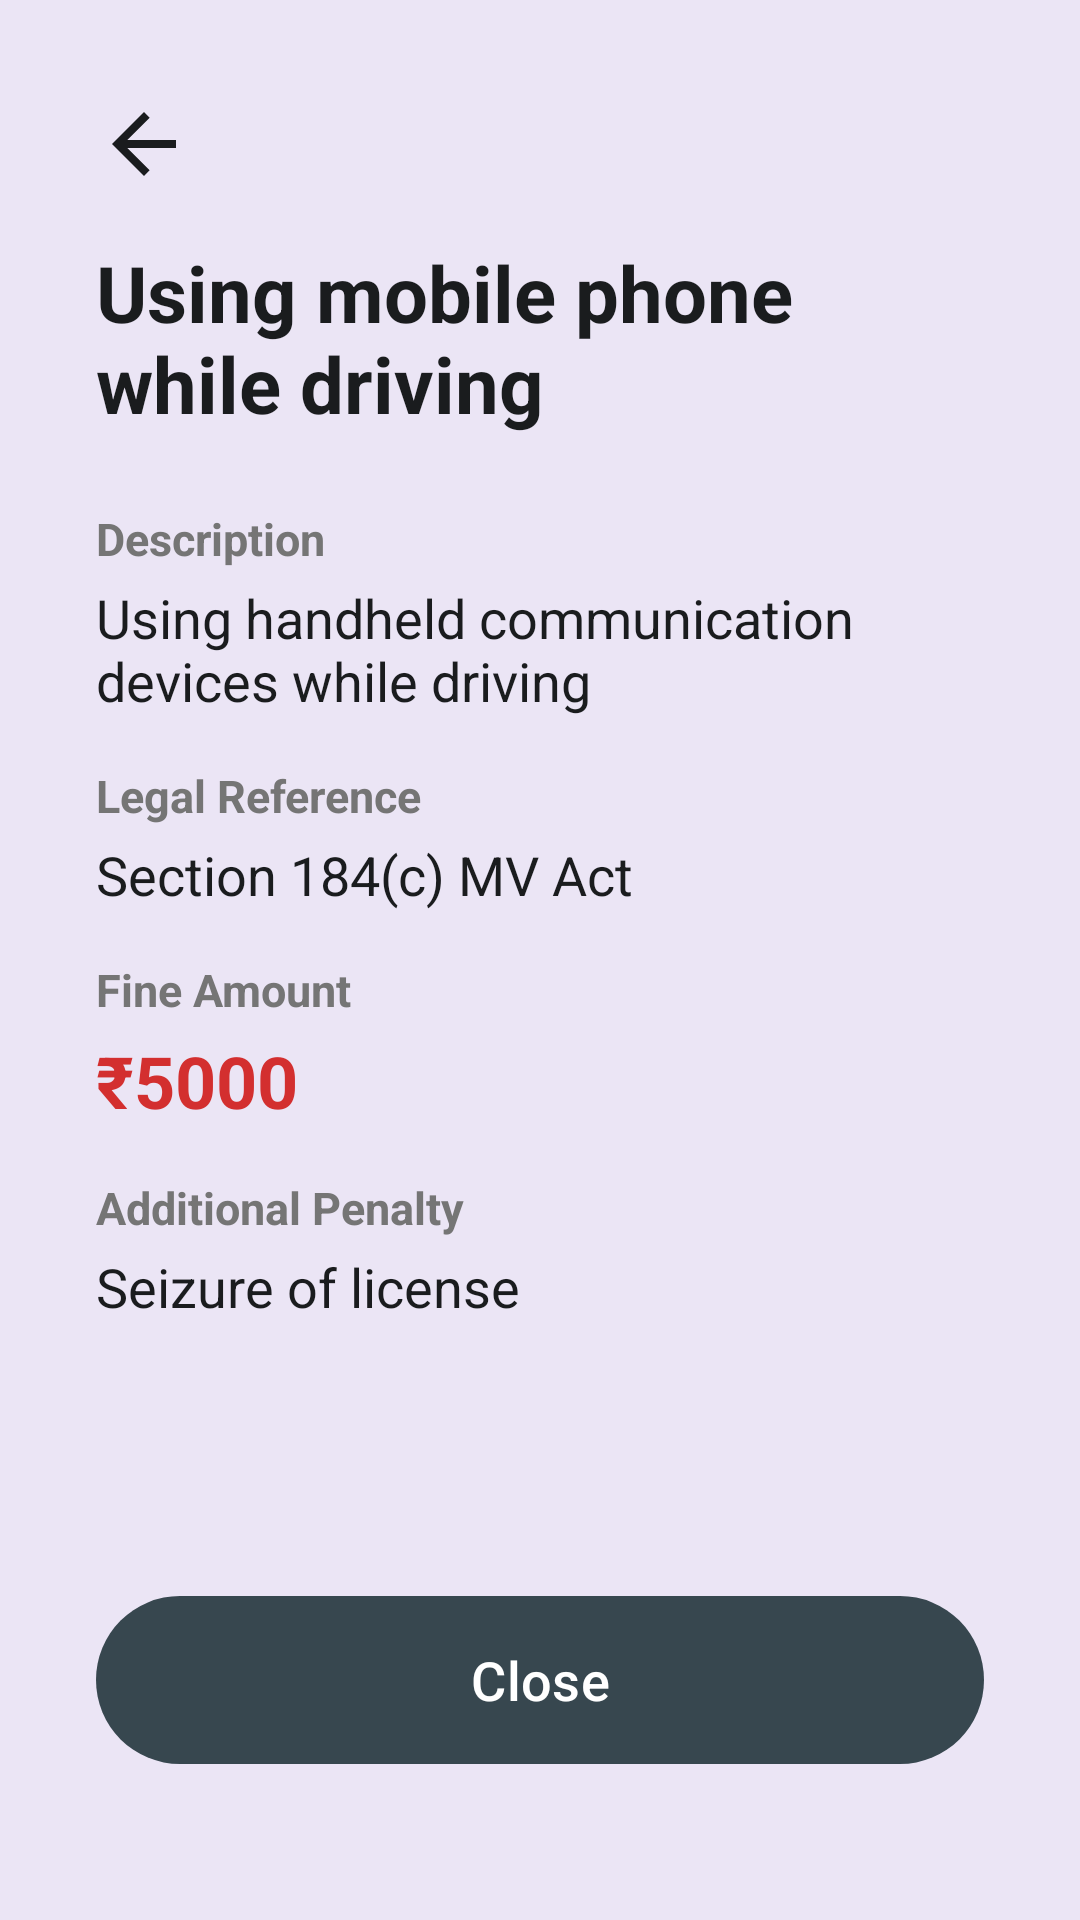

Point at icon controls on the screen. Image size 1080px×1920px, points as [x,y].
arrow back: [144,144]
